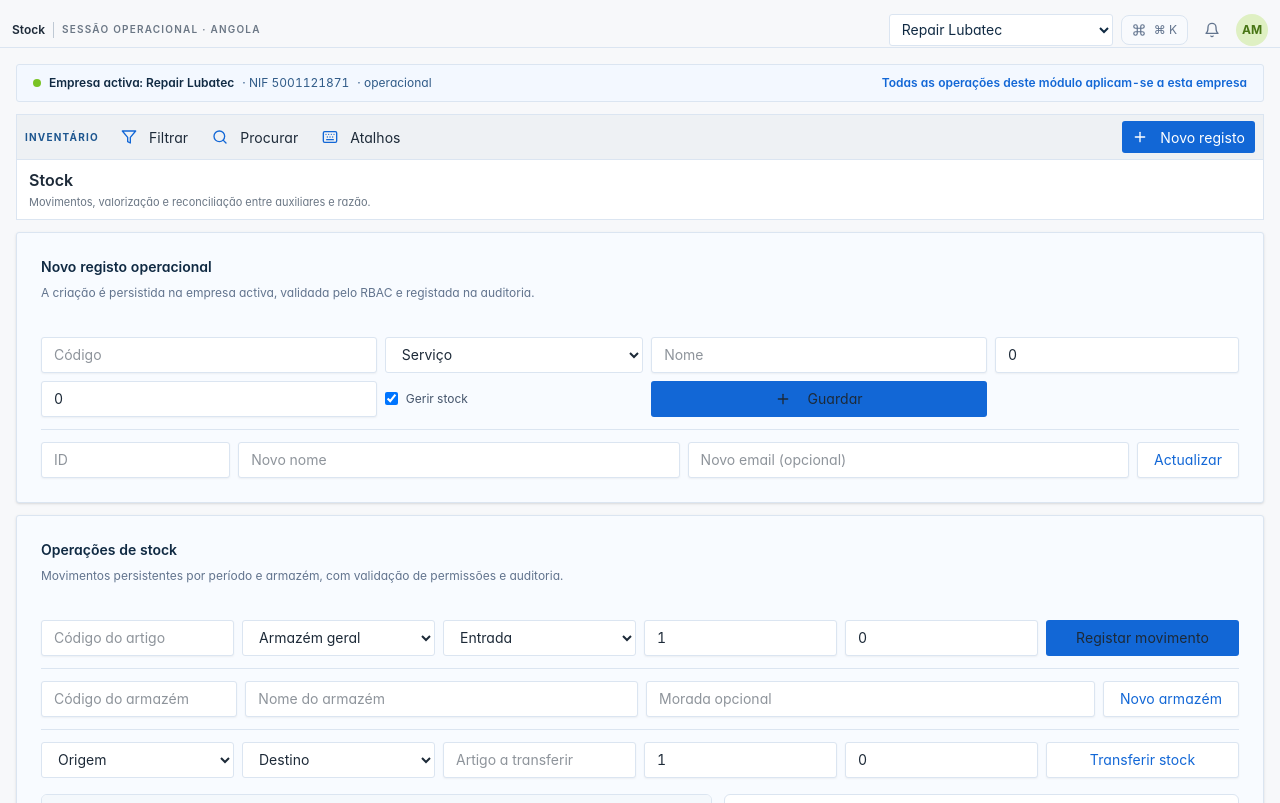
Test: Home traceability integration › shows success feedback after a stock movement mutation
Type "SVC-001" into the field with placeholder "Código do artigo".
click(138, 638); type("SVC-001")  # box [41, 620, 234, 656]
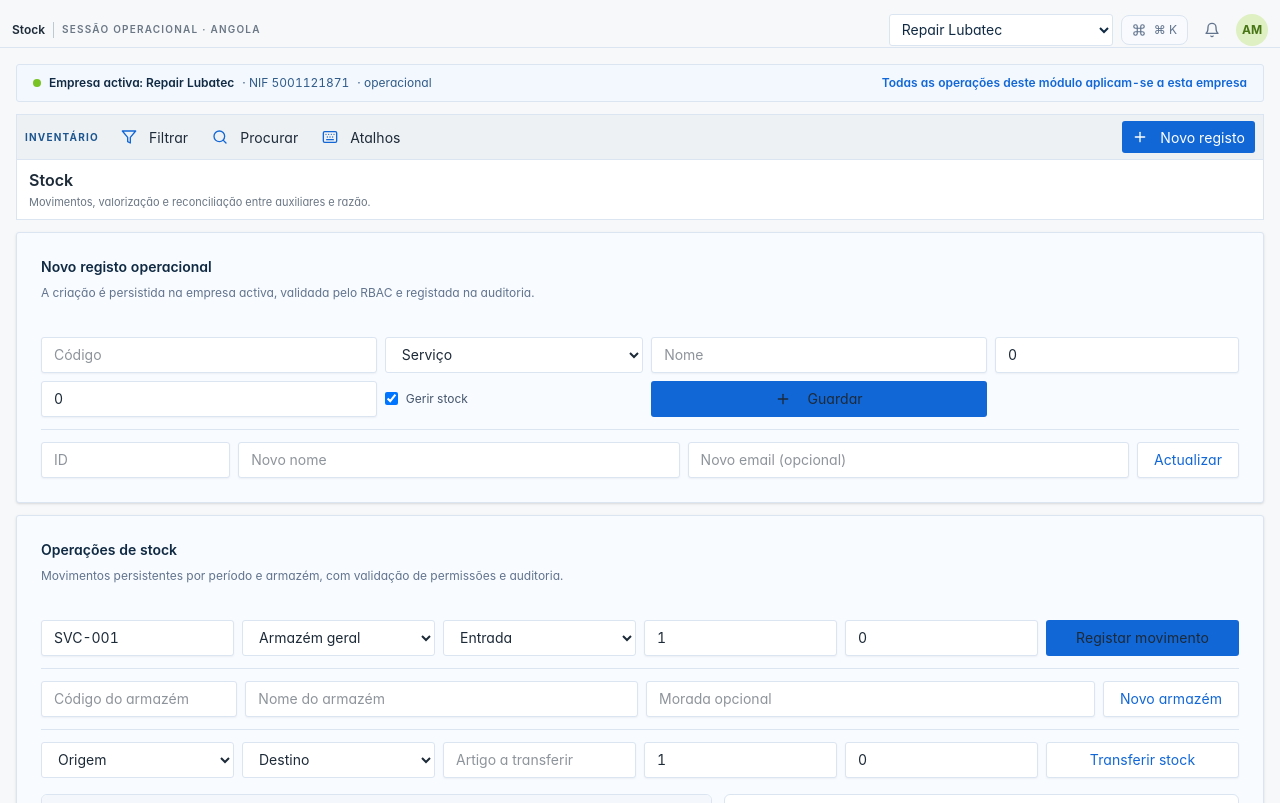
Submit the form "Registar movimento", box [41, 620, 1239, 656]
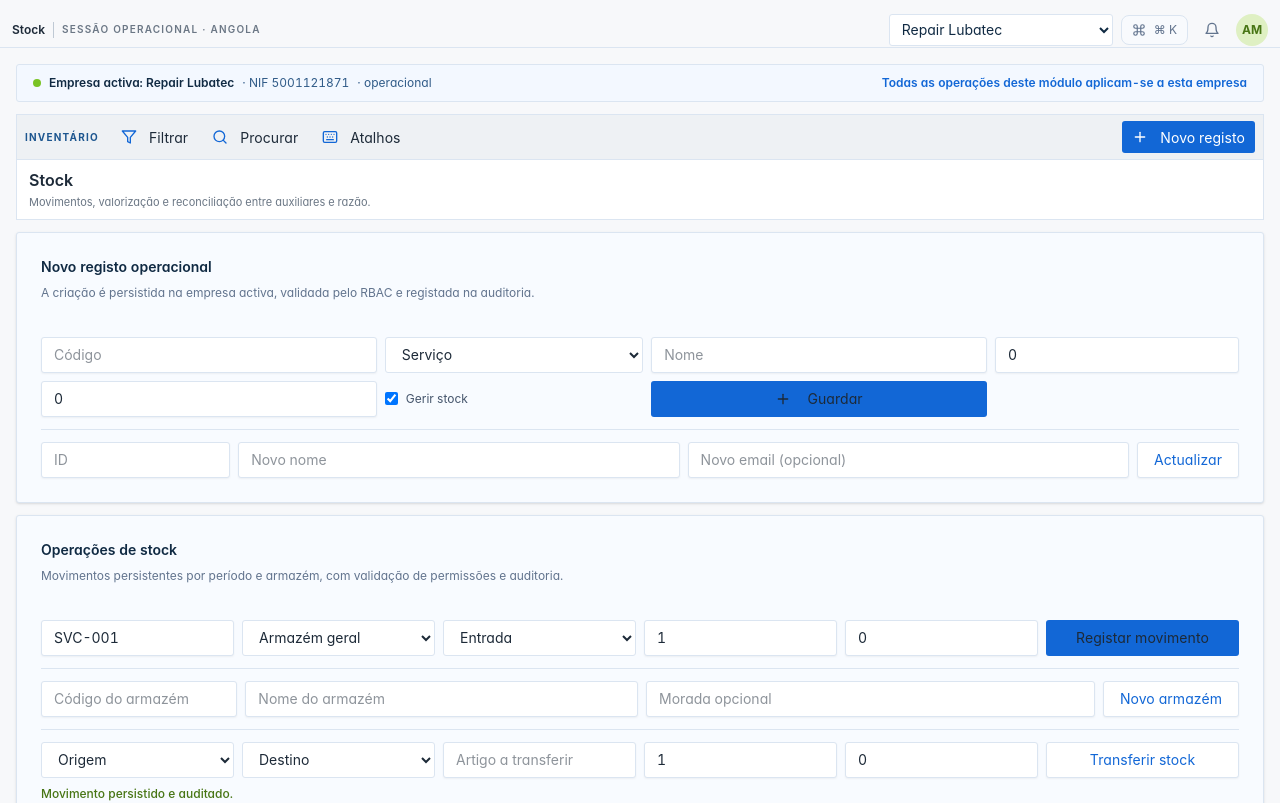
Now the text "Movimento persistido e auditado." is shown, box [41, 786, 233, 800]
